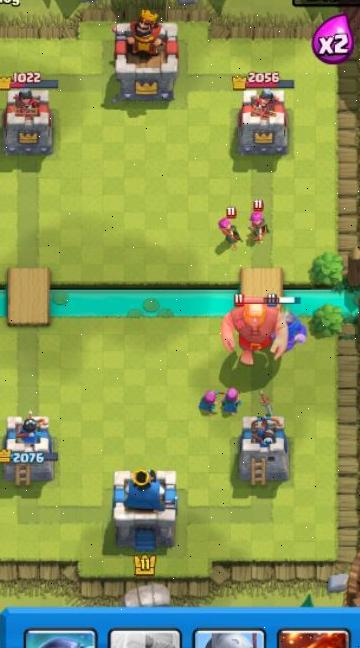enemy_archers: (244, 200, 272, 241), (214, 207, 243, 245)
enemy_giant: (216, 296, 288, 366)
player_archers: (218, 383, 245, 415), (195, 384, 221, 415)
player_knight: (284, 301, 312, 358)
